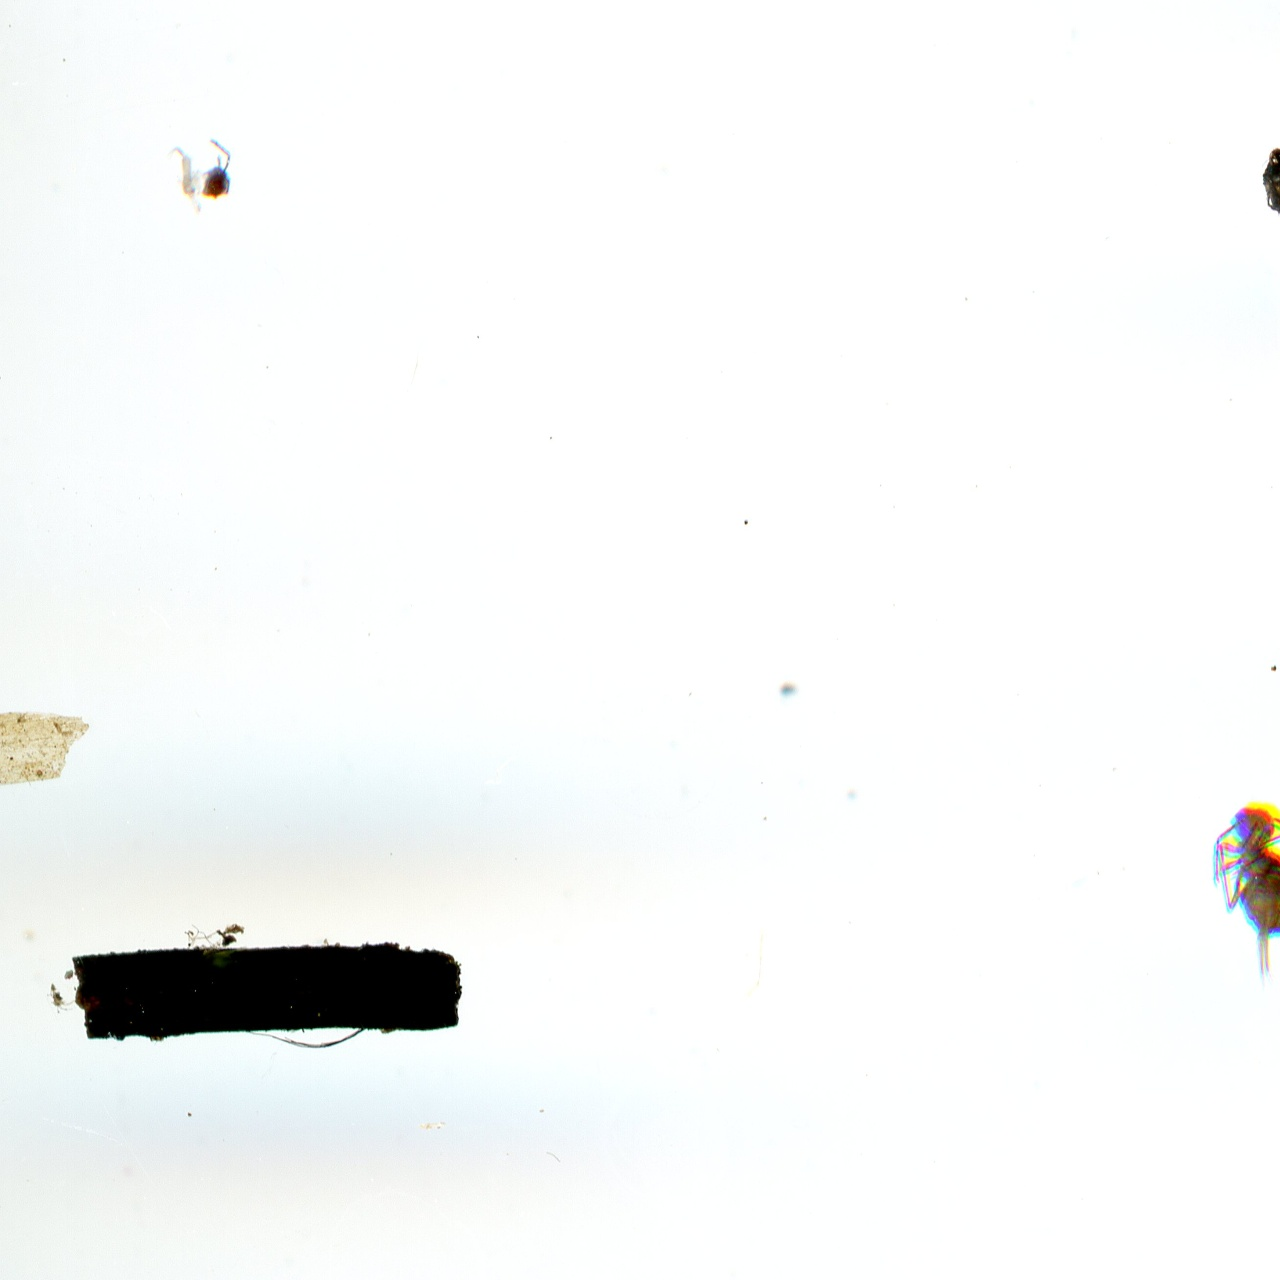arthropod: (1205, 797, 1280, 986), (166, 130, 237, 204)
